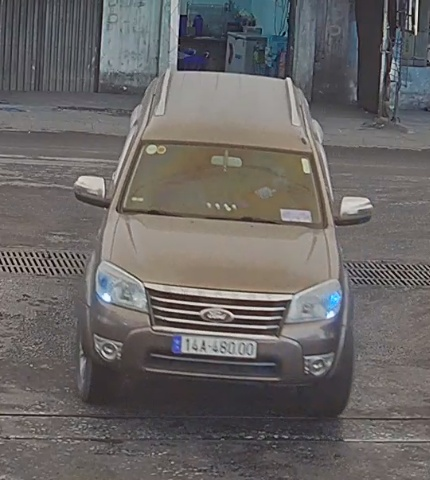vehicle plate: (172, 331, 263, 361)
